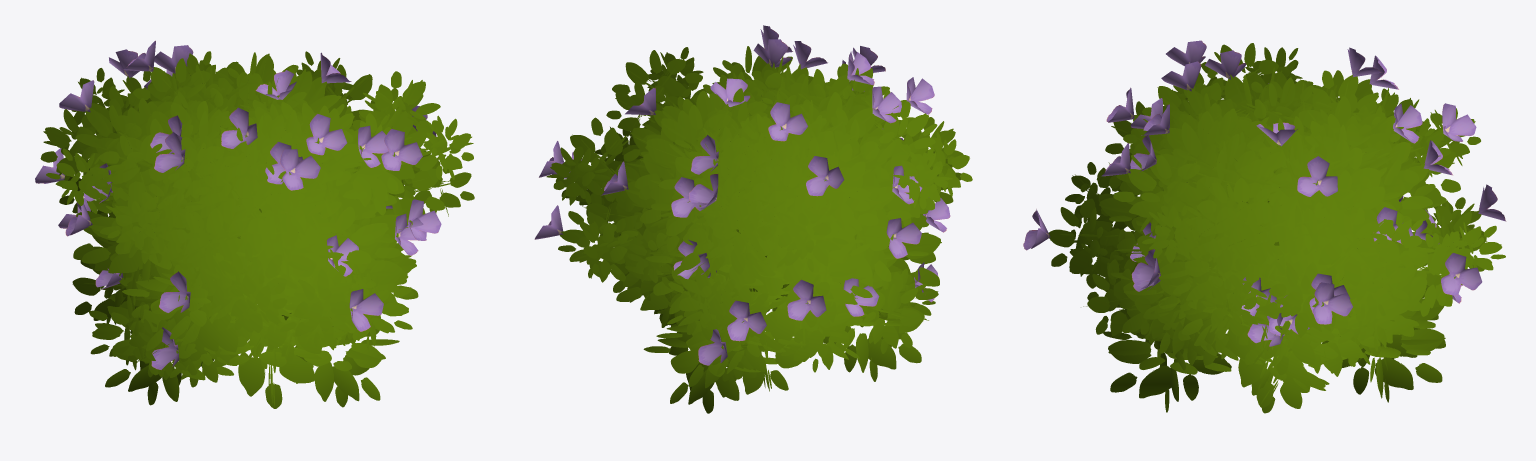
Rendered from Bush_Common_Flowers.gltf.
The picture shows the model from 3 angles, left to right: view 1: azimuth 30°, elevation 25°; view 2: azimuth 150°, elevation 25°; view 3: azimuth 270°, elevation 25°; orthographic projection. The views are drawn at different scales.
Parts seen in each view (by area): view 1: Bush_Common_Flowers; view 2: Bush_Common_Flowers; view 3: Bush_Common_Flowers.
Part boxes in pixels (bbox=[...]): Bush_Common_Flowers: bbox=[35, 40, 474, 408]; Bush_Common_Flowers: bbox=[534, 25, 972, 413]; Bush_Common_Flowers: bbox=[1023, 40, 1506, 413].
Bounding box in the file's own units: 1.91 × 1.58 × 1.97.
Materials: 2 (2 with a texture image).
